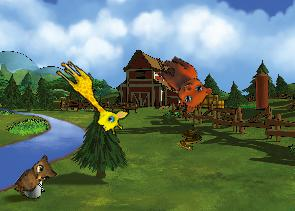bear: (147, 51, 218, 117)
giraffe: (46, 56, 133, 139)
owl: (11, 151, 62, 205)
